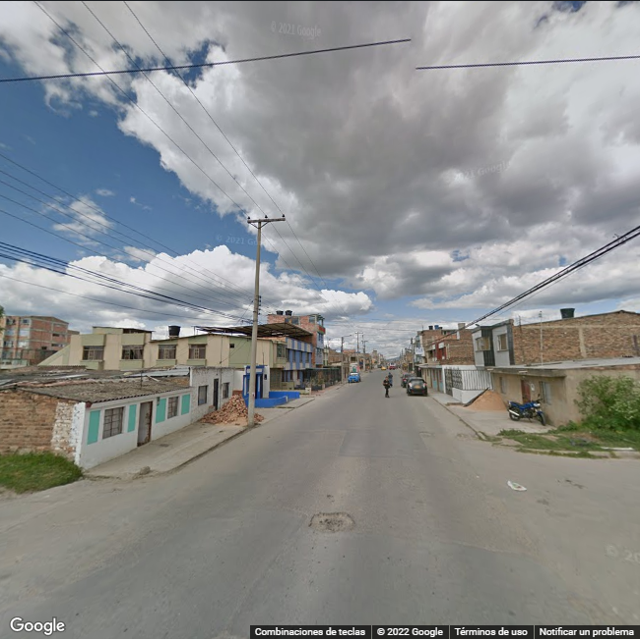D00: (236, 544, 286, 615)
D10: (423, 543, 539, 556)
D40: (308, 508, 357, 536)
